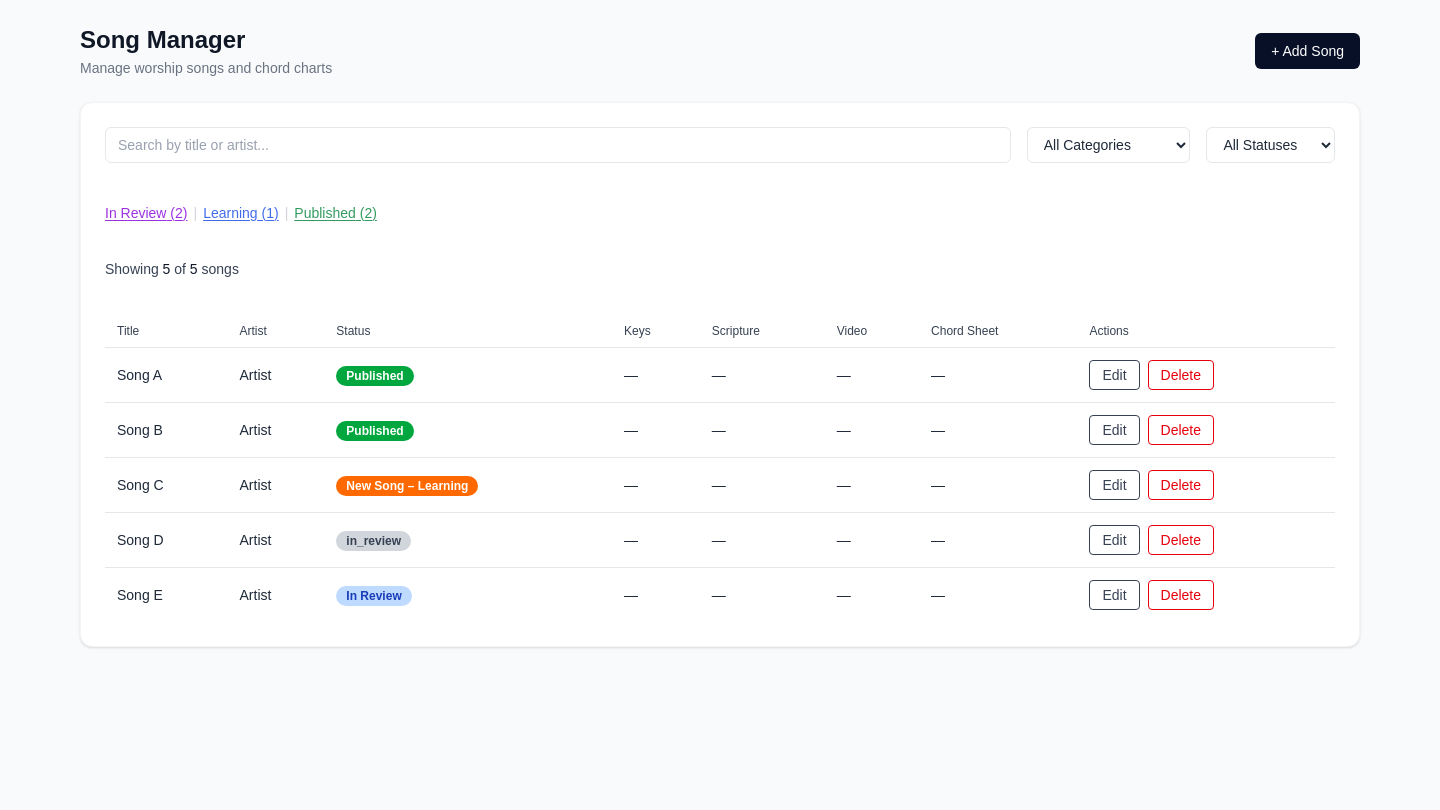
Test: AdminSongsPage — quick-stats bar › clicking Clear filter restores all songs
The width and height of the screenshot is (1440, 810).
expect the text "Song A" is shown: met, box [105,348,228,402]
Click the button "Learning (1)" at [241, 213], box [203,203,279,223]
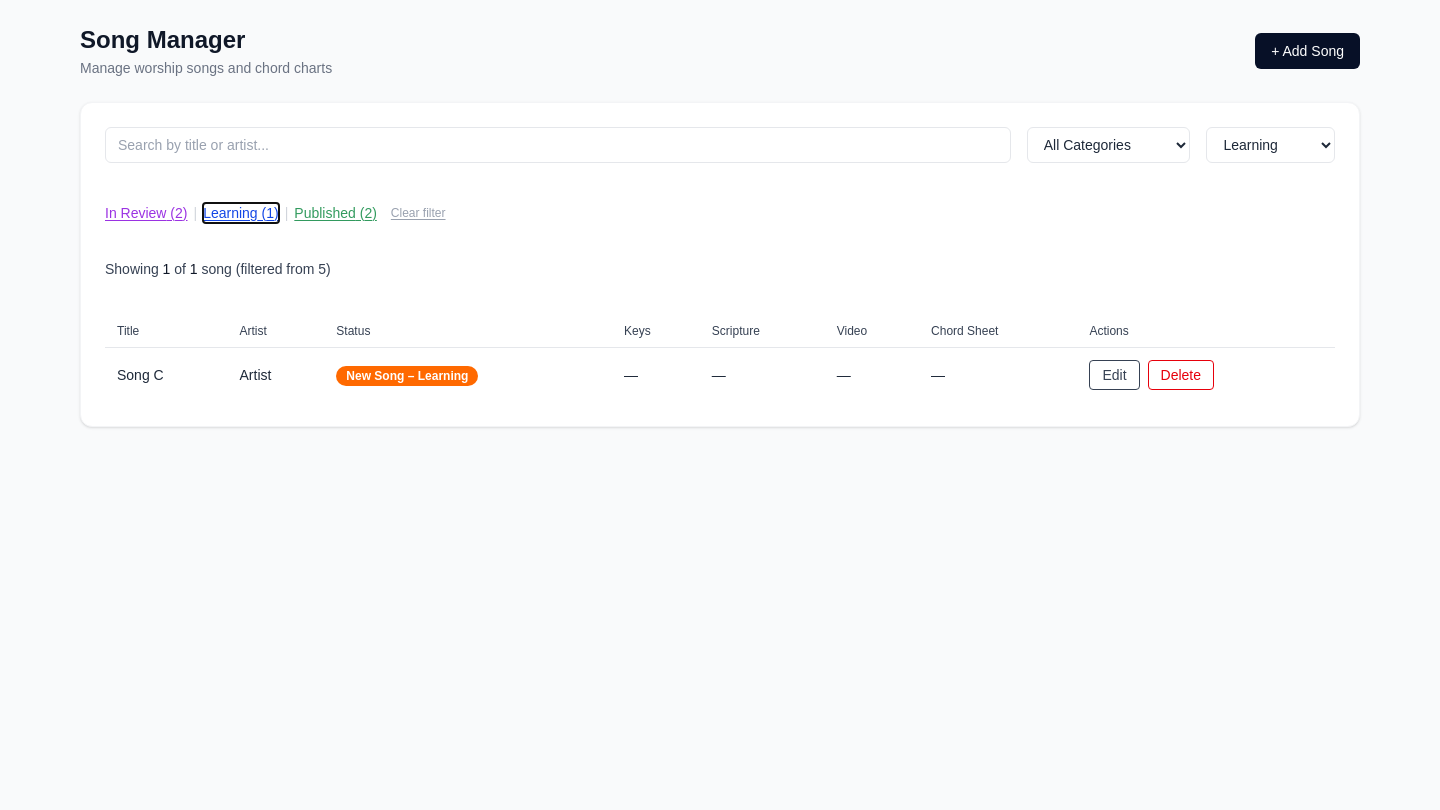
Click the button "Clear filter" at [418, 213], box [391,205,446,221]
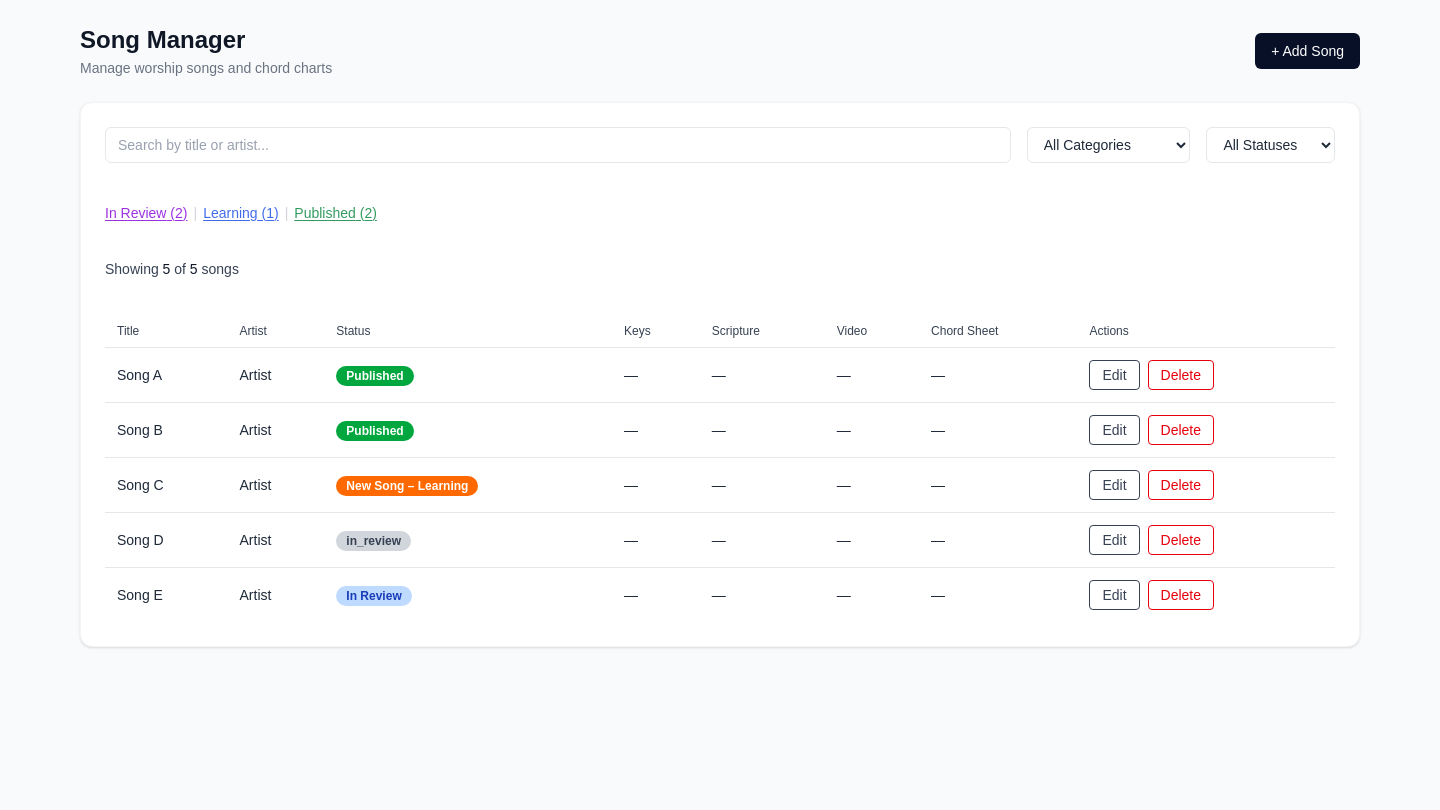
expect the text "Song C" is shown: met, box [105,458,228,512]
expect the text "Song A" is shown: met, box [105,348,228,402]
